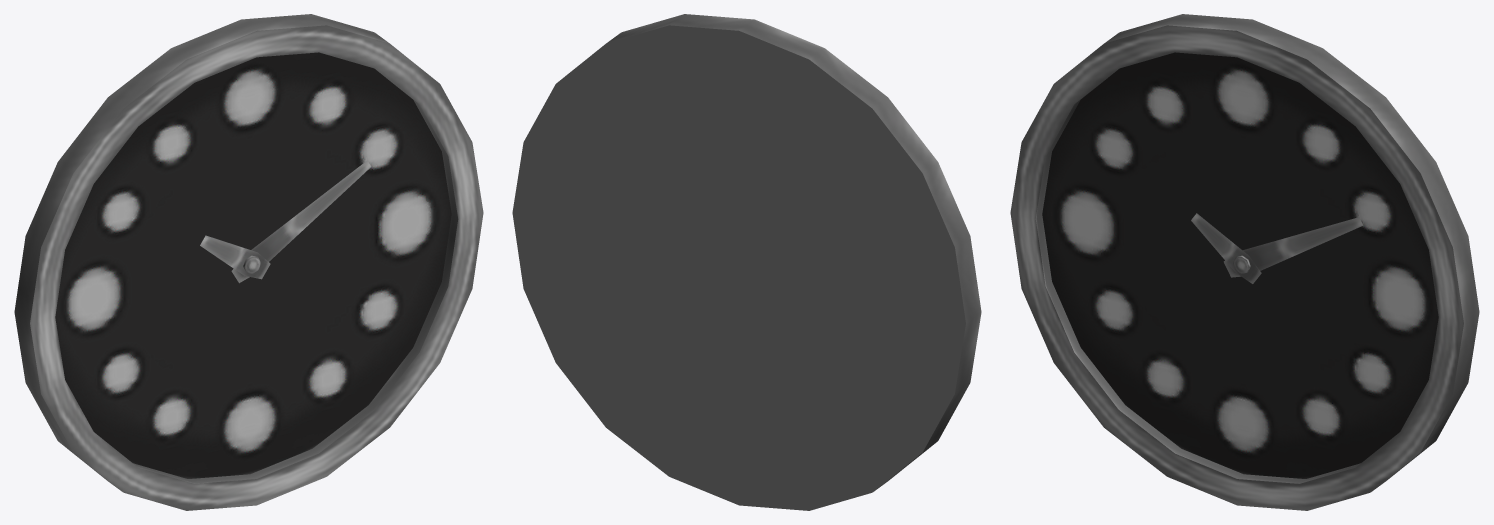
File: MidcenturyClock_HD.fbx
3 views of the same model, side by side, from view 1: azimuth 30°, elevation 25°; view 2: azimuth 150°, elevation 25°; view 3: azimuth 330°, elevation 25° (orthographic).
Parts seen in each view (by area): view 1: MidcenturyClock; view 2: MidcenturyClock; view 3: MidcenturyClock.
Part boxes in pixels (x1,y1,x2,y2): MidcenturyClock: (14,14,483,510); MidcenturyClock: (512,14,981,510); MidcenturyClock: (1010,14,1479,510).
Bounding box in the file's own units: 0.5824 × 0.5824 × 0.0345.
